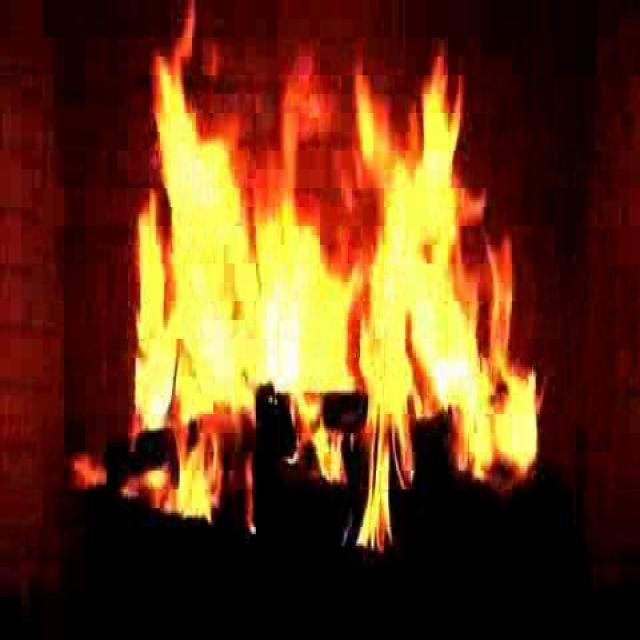Fire: (90, 0, 612, 539)
